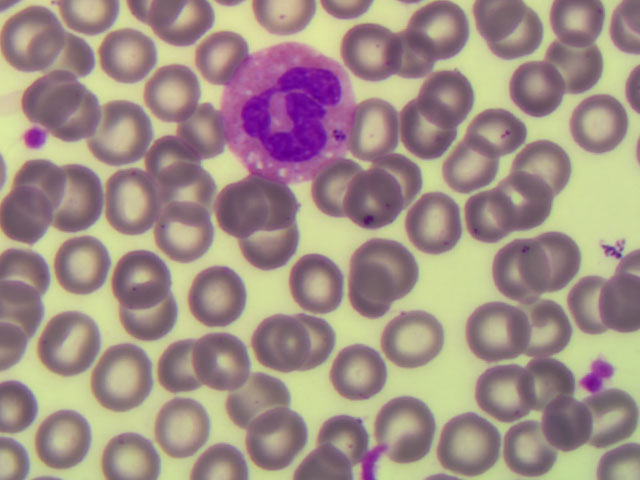Platelets: (582, 356, 611, 391), (18, 128, 47, 150)
RBC: (293, 417, 353, 480), (198, 417, 258, 480), (100, 417, 160, 480), (5, 8, 65, 70), (32, 17, 92, 79), (22, 64, 82, 126), (49, 86, 109, 148), (89, 104, 149, 166), (145, 59, 205, 121), (100, 25, 160, 87), (177, 21, 237, 83), (144, 1, 204, 63), (176, 95, 236, 157), (144, 131, 204, 193), (154, 155, 214, 217), (160, 206, 220, 268), (99, 166, 159, 228), (57, 170, 117, 232), (19, 150, 79, 212), (5, 178, 65, 240), (54, 234, 114, 296), (39, 305, 99, 367), (97, 355, 157, 417), (108, 286, 168, 348), (101, 237, 161, 299), (190, 325, 250, 387), (155, 325, 215, 387), (190, 266, 250, 328), (248, 311, 308, 373), (291, 255, 351, 317), (294, 315, 354, 377), (235, 213, 295, 275), (243, 169, 303, 231), (222, 167, 282, 229), (300, 158, 360, 220), (350, 174, 410, 236), (370, 149, 430, 211), (409, 193, 469, 255), (362, 224, 422, 286), (345, 258, 405, 320), (382, 309, 442, 371), (338, 340, 398, 402), (383, 390, 443, 452), (320, 404, 380, 466), (245, 408, 305, 470), (239, 367, 299, 429), (148, 391, 208, 453), (29, 409, 89, 471), (433, 406, 493, 468), (471, 366, 531, 428), (504, 351, 564, 413), (517, 375, 577, 437), (484, 407, 544, 469), (463, 309, 523, 371), (500, 304, 560, 366), (551, 274, 611, 336), (580, 274, 640, 336), (535, 227, 595, 289), (488, 243, 548, 305), (490, 175, 550, 237), (477, 183, 537, 245), (516, 144, 576, 206), (575, 95, 635, 157), (500, 61, 560, 123), (547, 33, 607, 95), (485, 5, 545, 67), (420, 61, 480, 123), (403, 84, 463, 146), (436, 136, 496, 198), (474, 86, 534, 148), (358, 96, 418, 158), (386, 23, 446, 85), (343, 18, 403, 80), (414, 2, 474, 64), (1, 240, 60, 302)
WBC: (220, 29, 360, 183)
